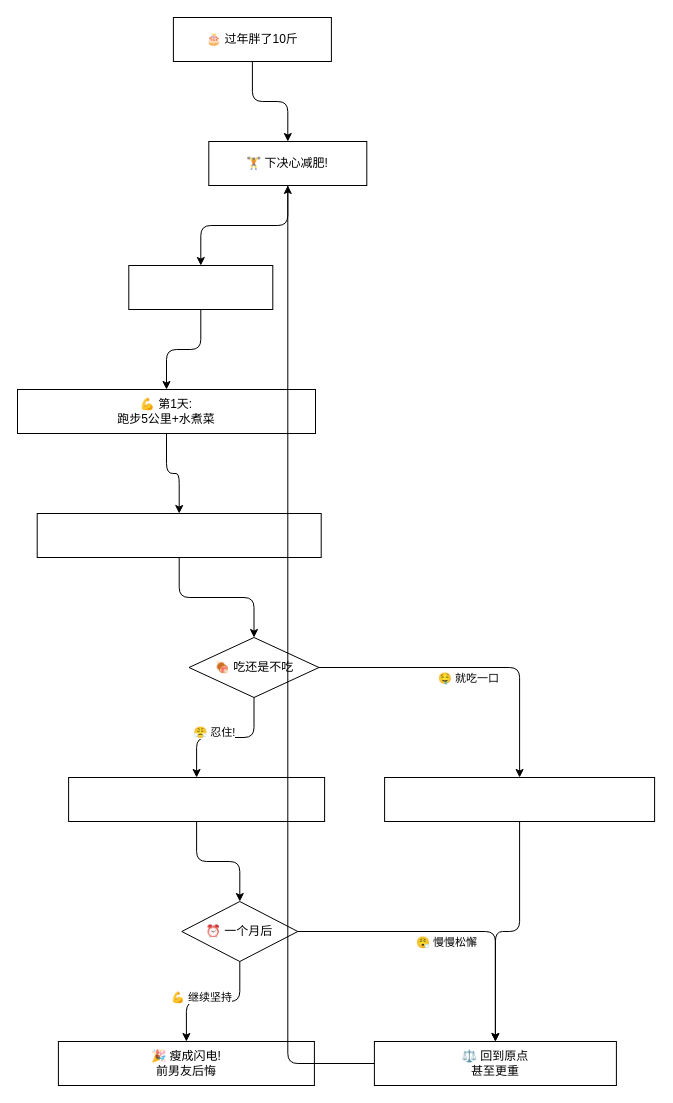
Image size: 673x1103. Some labels were removed from this diagram. Here are the shapes that lost their labels. From the top down, the centre of each, then its label:
At point (200, 287): "📝 制定完美计划".
At point (178, 535): "😋 第3天: 路过烧烤摊...".
At point (196, 799): "🏆 坚持了一周 瘦了2斤!".
At point (519, 799): "🍗 破防了... 报复性暴食".
